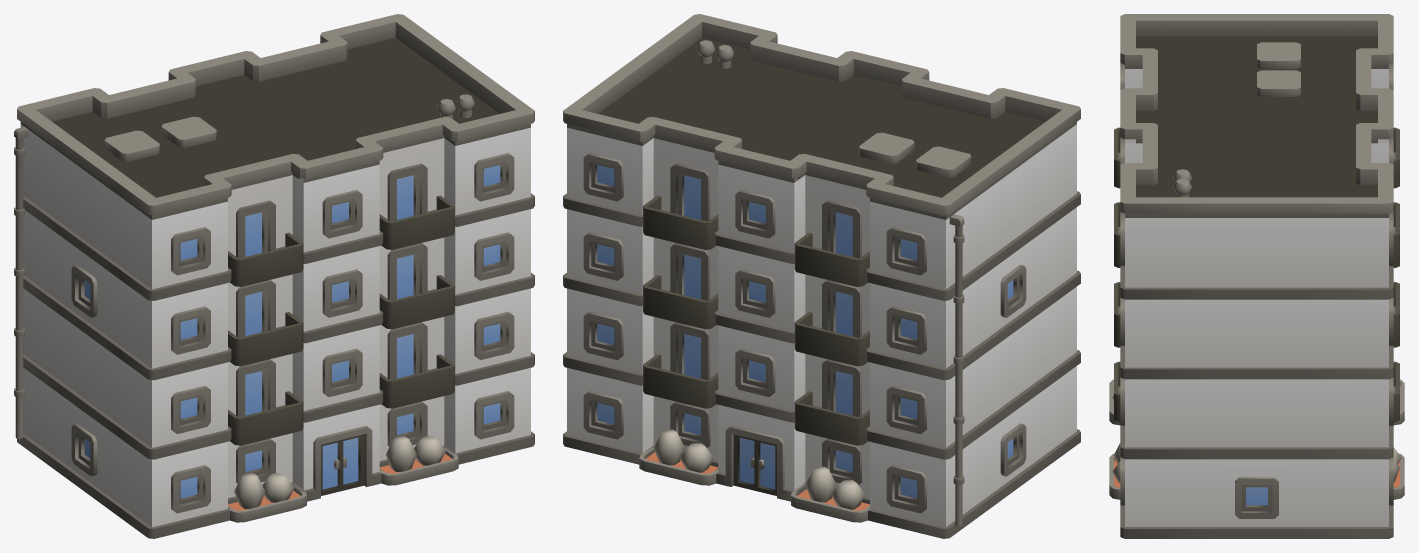
The model's file is com-building-j.glb.
3 renders of one model, left to right at view 1: azimuth 30°, elevation 25°; view 2: azimuth 150°, elevation 25°; view 3: azimuth 270°, elevation 25°, orthographic.
Parts seen in each view (by area): view 1: building-j; view 2: building-j; view 3: building-j.
Part boxes in pixels (x1,y1,x2,y2): building-j: (14, 14, 534, 538); building-j: (563, 14, 1080, 538); building-j: (1109, 14, 1404, 538).
Size of the model in its own units: 2.08 by 1.69 by 1.34.
Materials: 1 (1 with a texture image).
